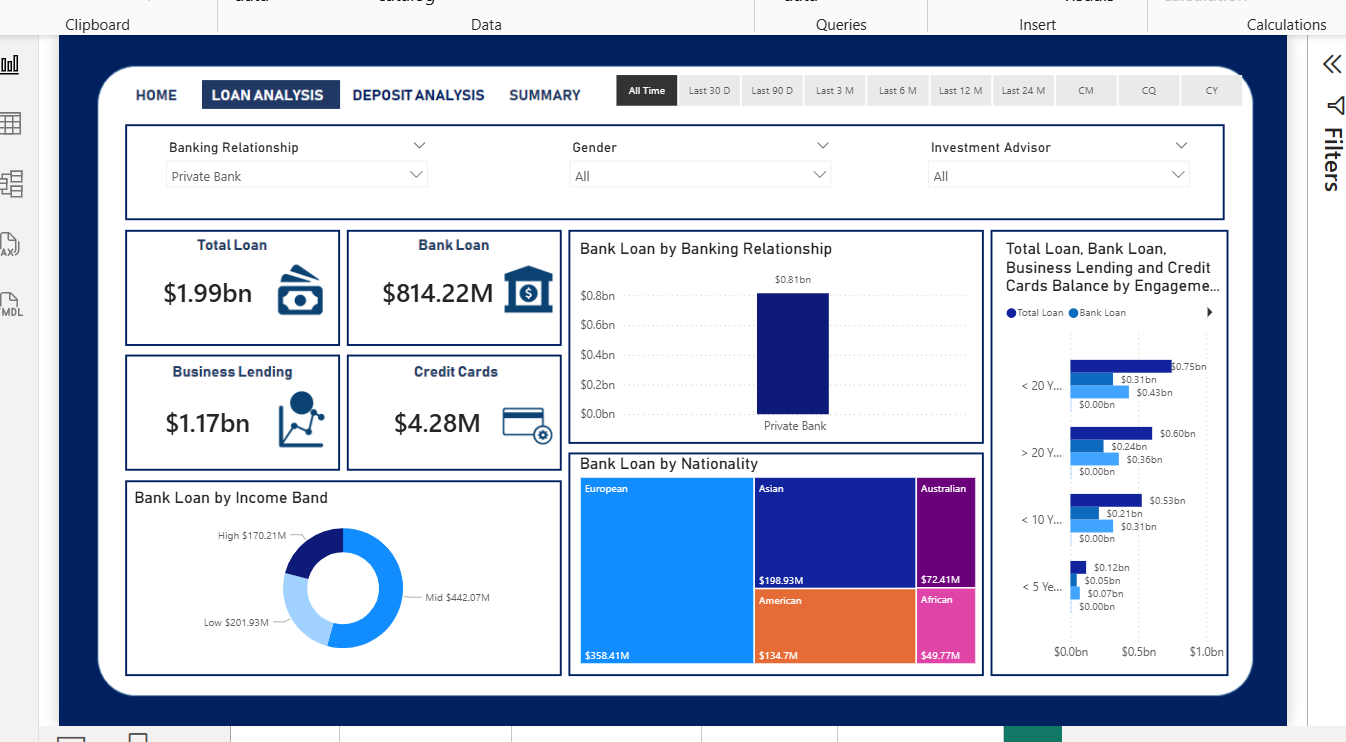

What the dashboard file says about the page in this screenshot:
{"tool":"powerbi","page":{"name":"Loan Analysis","canvas":[1280,720],"ordinal":1},"visuals":[{"type":"card","fields":{"Values":["DAX Measures.Total Loan"]},"box":[72.7,224,161.8,90.3],"z":0},{"type":"card","fields":{"Values":["DAX Measures.Bank Loan"]},"box":[307.2,224,172.4,89.1],"z":1000},{"type":"card","fields":{"Values":["DAX Measures.Credit Cards"]},"box":[307.2,360,171.2,89.1],"z":2000},{"type":"card","fields":{"Values":["DAX Measures.Business Lending"]},"box":[72.7,360,161.8,89.1],"z":3000},{"type":"slicer","fields":{"Values":["Banking Relationship.Banking Relationship"]},"box":[102.3,103.4,292.9,75.7],"z":4000},{"type":"slicer","fields":{"Values":["Gender.Gender"]},"box":[522.7,103.4,292.9,75.7],"z":5000},{"type":"slicer","fields":{"Values":["Investment Advisor.Investment Advisor"]},"box":[895,103.4,292.9,75.7],"z":6000},{"type":"donutChart","fields":{"Category":["Clients - Banking.Income Band"],"Y":["DAX Measures.Bank Loan"]},"box":[72.7,471.4,444.4,188.8],"z":7000},{"type":"clusteredBarChart","fields":{"Category":["Clients - Banking.Engagement Timeframe"],"Y":["DAX Measures.Total Loan","DAX Measures.Bank Loan","DAX Measures.Business Lending","DAX Measures.Credit Cards"]},"box":[981.5,212.2,236.9,447.9],"z":8000},{"type":"treemap","fields":{"Group":["Clients - Banking.Nationality"],"Values":["DAX Measures.Bank Loan"]},"box":[538.2,436.2,422.1,224],"z":9000},{"type":"lineClusteredColumnComboChart","fields":{"Y":["DAX Measures.Bank Loan"],"Category":["Banking Relationship.Banking Relationship"]},"box":[538.2,212.2,411.6,212.2],"z":10000},{"type":"slicer","fields":{"Values":["Period.Name"]},"box":[555.2,34.6,702.1,46.6],"z":11000},{"type":"actionButton","box":[72.8,44.2,58.5,31],"z":12000},{"type":"actionButton","box":[306.9,44.7,119.4,31],"z":13000},{"type":"actionButton","box":[471.6,44.2,83.6,31],"z":14000}]}

Visuals, with their boxes on the page's 1280x720 design canvas (x1, y1, x2, y2). These are canvas units, not pixel positions in the 1346x742 screenshot, which may show the page scaled, cropped or inside an application window:
card - DAX Measures.Total Loan: 73,224,234,314
card - DAX Measures.Bank Loan: 307,224,480,313
card - DAX Measures.Credit Cards: 307,360,478,449
card - DAX Measures.Business Lending: 73,360,234,449
slicer - Banking Relationship.Banking Relationship: 102,103,395,179
slicer - Gender.Gender: 523,103,816,179
slicer - Investment Advisor.Investment Advisor: 895,103,1188,179
donutChart - Clients - Banking.Income Band x DAX Measures.Bank Loan: 73,471,517,660
clusteredBarChart - Clients - Banking.Engagement Timeframe x DAX Measures.Total Loan: 982,212,1218,660
treemap - Clients - Banking.Nationality x DAX Measures.Bank Loan: 538,436,960,660
lineClusteredColumnComboChart - DAX Measures.Bank Loan x Banking Relationship.Banking Relationship: 538,212,950,424
slicer - Period.Name: 555,35,1257,81
actionButton: 73,44,131,75
actionButton: 307,45,426,76
actionButton: 472,44,555,75
